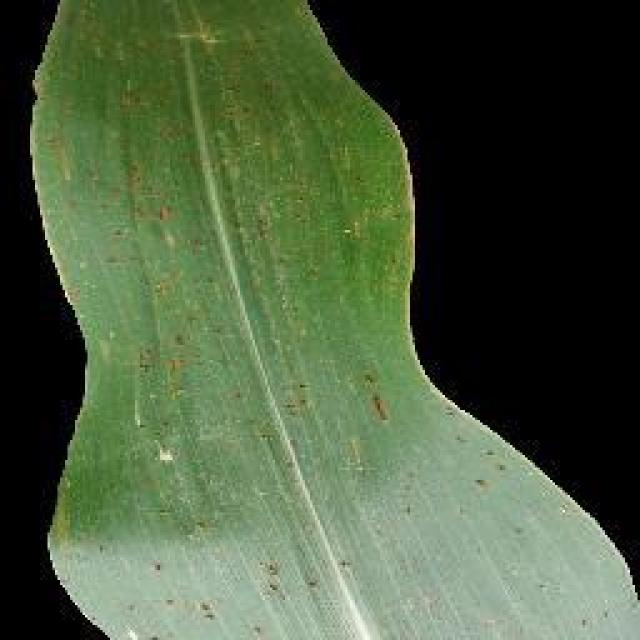Corn Common Rust: (100, 47, 453, 588)
